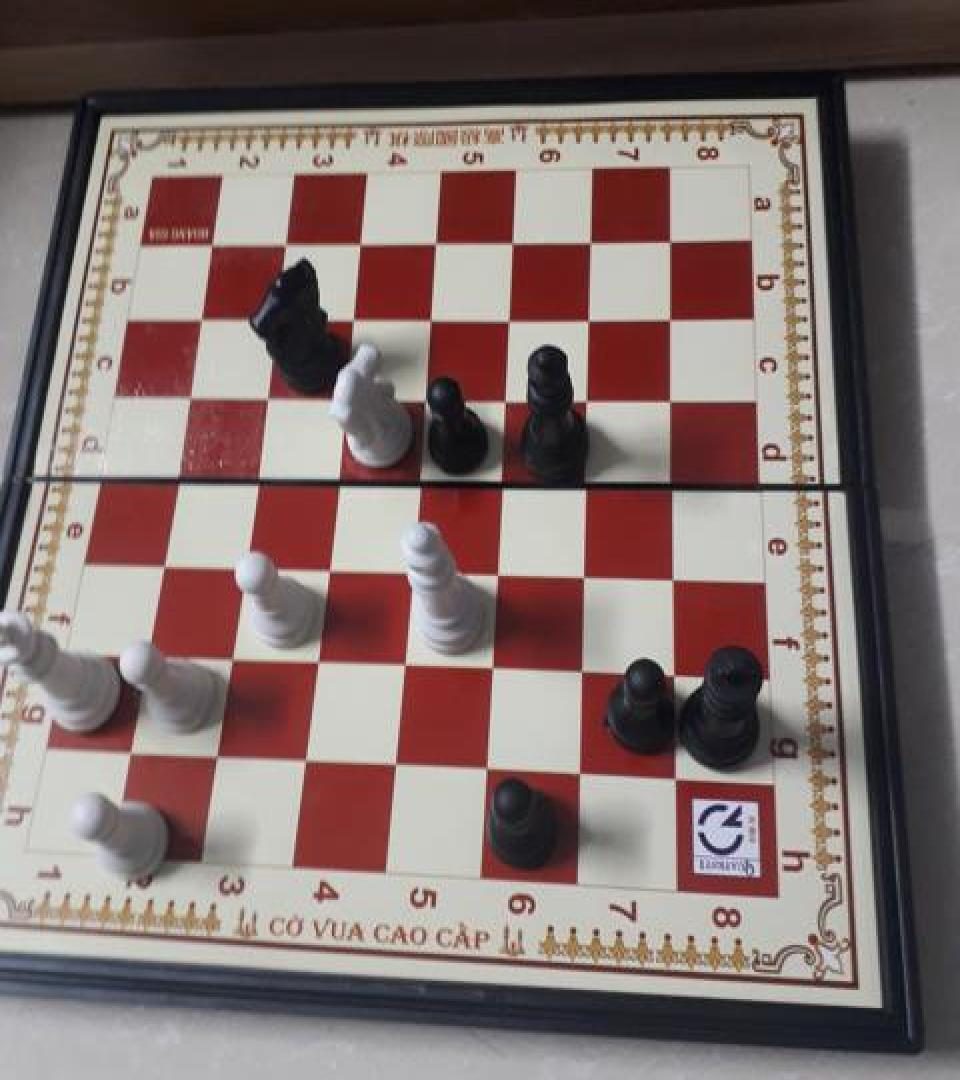xcorner: (227, 545, 259, 582), (146, 543, 178, 580), (567, 652, 599, 689), (290, 741, 322, 778), (115, 732, 147, 769), (657, 223, 689, 259), (577, 223, 609, 259), (498, 223, 530, 259), (421, 224, 453, 260), (345, 224, 377, 260), (270, 225, 302, 261), (197, 225, 229, 261), (657, 299, 689, 335), (575, 299, 607, 335), (494, 299, 526, 335), (415, 299, 447, 335), (337, 298, 369, 334), (260, 298, 292, 334), (185, 298, 217, 334), (658, 382, 690, 418), (573, 380, 605, 416), (490, 379, 522, 415), (409, 378, 441, 414), (328, 377, 360, 413), (250, 377, 282, 413), (172, 376, 204, 412), (658, 467, 690, 503), (571, 466, 603, 502), (486, 464, 518, 500), (402, 462, 434, 498), (320, 460, 352, 496), (239, 459, 271, 495), (159, 457, 191, 493), (659, 559, 691, 595), (569, 556, 601, 592), (481, 554, 513, 590), (395, 551, 427, 587), (310, 548, 342, 584), (659, 656, 691, 692), (476, 649, 508, 685), (387, 646, 419, 682), (300, 641, 332, 677), (215, 638, 247, 674), (131, 634, 163, 670), (660, 760, 692, 796), (564, 755, 596, 791), (471, 750, 503, 786), (379, 746, 411, 782), (202, 736, 234, 772)
